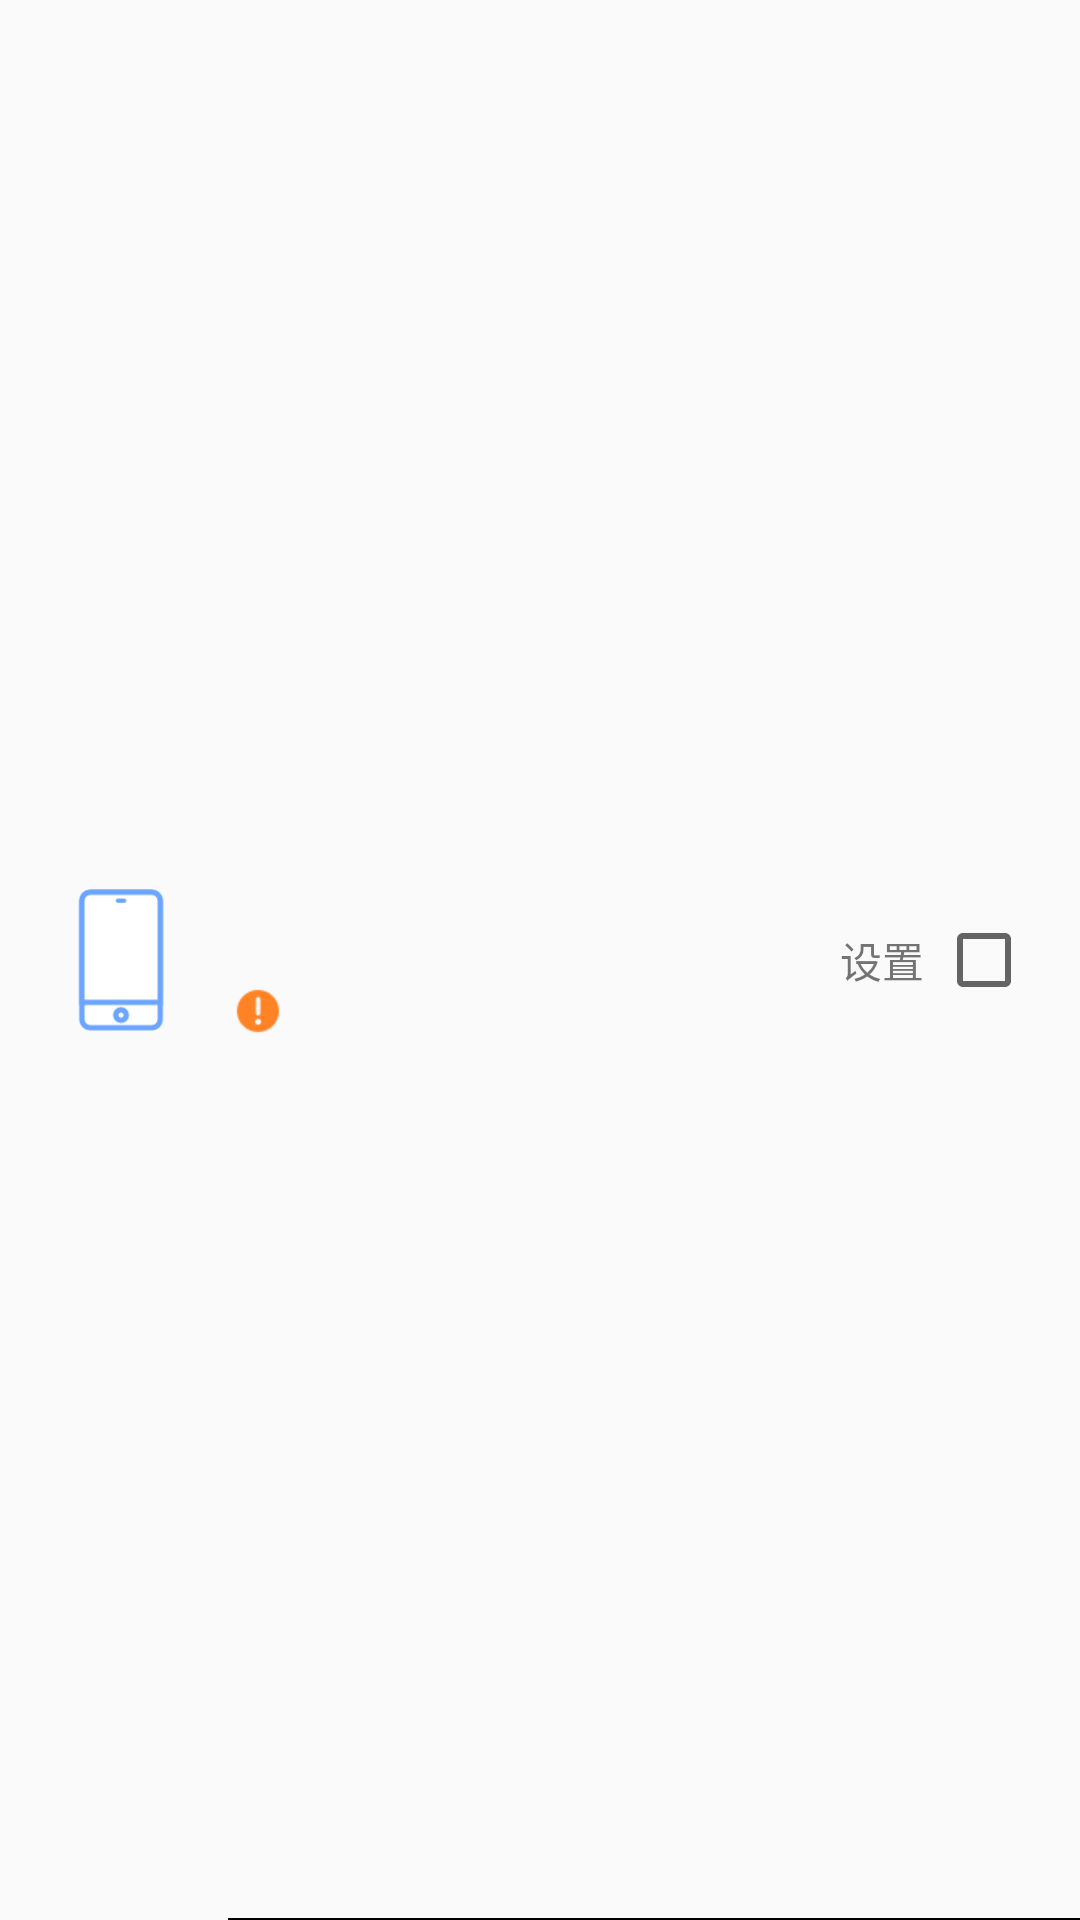

Screen size 1080 x 1920. Icon name, then its center in pixels as [x,y]:
net phone: [121,960]
